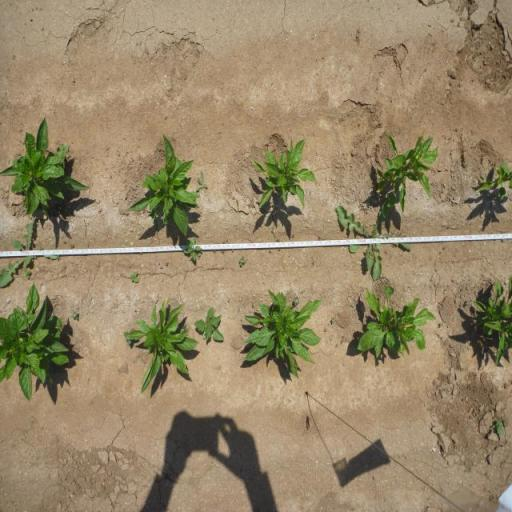plant: (0, 116, 94, 217), (240, 289, 327, 387), (0, 282, 70, 402), (127, 133, 199, 237), (131, 298, 201, 395), (355, 284, 437, 360), (374, 124, 441, 211), (250, 133, 319, 210), (473, 272, 512, 366), (477, 160, 512, 204)
weed: (333, 191, 411, 283), (0, 215, 62, 287), (194, 306, 224, 342), (184, 236, 202, 262), (196, 170, 208, 193), (492, 418, 504, 436), (130, 270, 139, 284), (238, 255, 246, 267), (70, 310, 78, 321), (24, 268, 32, 278), (180, 324, 189, 332), (479, 171, 487, 180), (294, 296, 300, 306), (466, 299, 471, 306), (332, 316, 336, 323), (440, 321, 442, 328), (166, 261, 168, 267)
